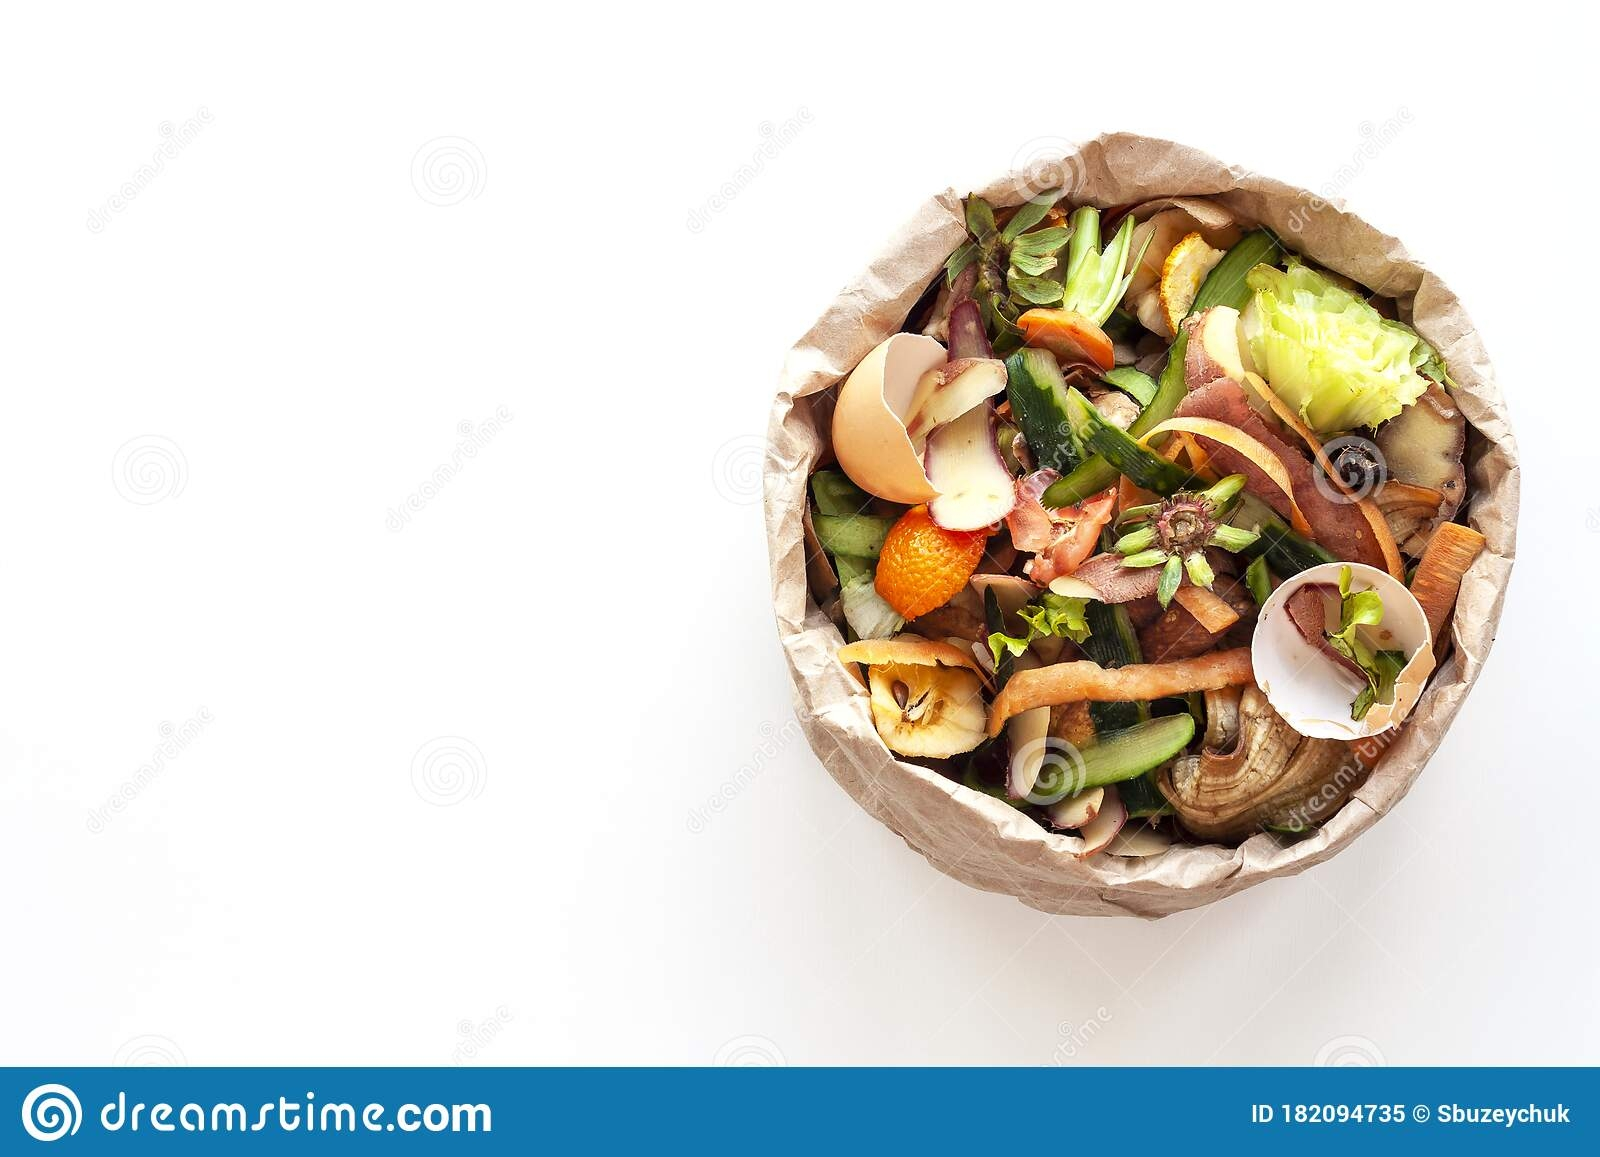kitchen_waste: (1183, 373, 1452, 590), (983, 599, 1270, 742), (1236, 556, 1443, 746), (998, 347, 1202, 510), (965, 203, 1159, 372), (817, 322, 985, 514), (1247, 273, 1446, 431), (824, 616, 1021, 763), (1109, 473, 1284, 597), (1006, 707, 1200, 810), (862, 485, 1002, 625), (994, 473, 1118, 592), (1147, 222, 1229, 329)
